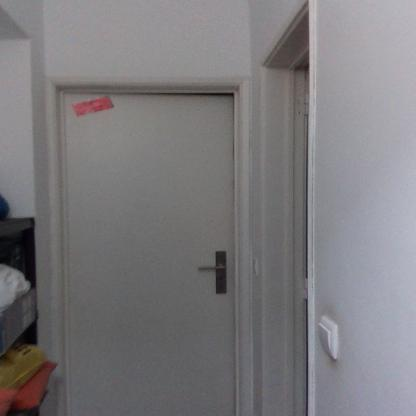door: (61, 93, 236, 416)
lever: (197, 264, 230, 273)
